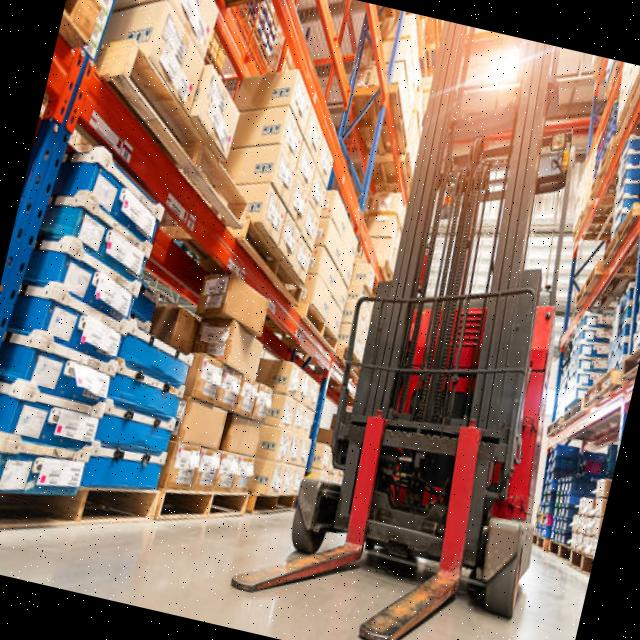Wooden-Pallets: (118, 33, 253, 231), (0, 479, 161, 535), (239, 206, 308, 322), (155, 480, 253, 528)
